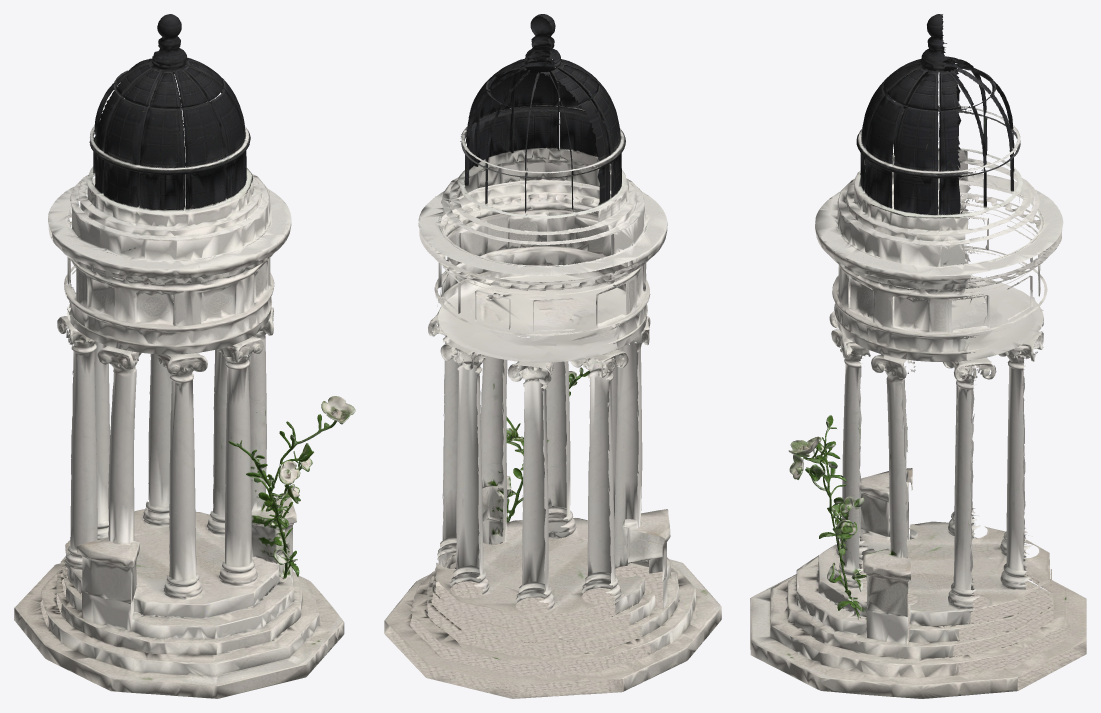
File: garden_tower.glb
The picture shows the model from 3 angles, left to right: view 1: azimuth 30°, elevation 25°; view 2: azimuth 150°, elevation 25°; view 3: azimuth 270°, elevation 25°; orthographic projection. The views are drawn at different scales.
Size of the model in its own units: 0.8731 by 1.9 by 0.9392.
1 material, 1 textured.
